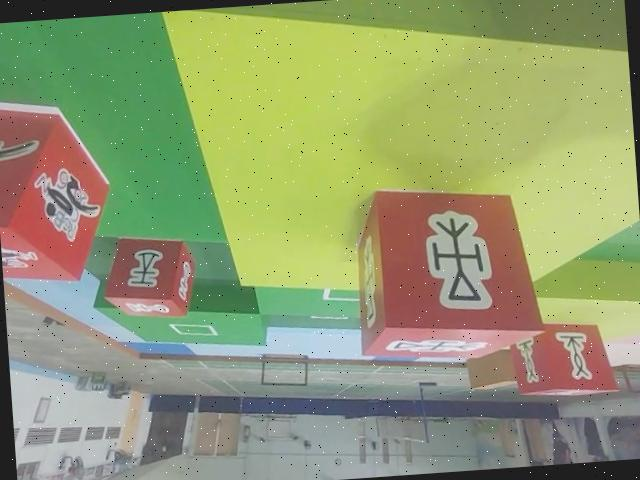R1: (0, 88, 119, 290)
R2 Real: (345, 175, 547, 368), (505, 314, 618, 407), (98, 230, 200, 324)
